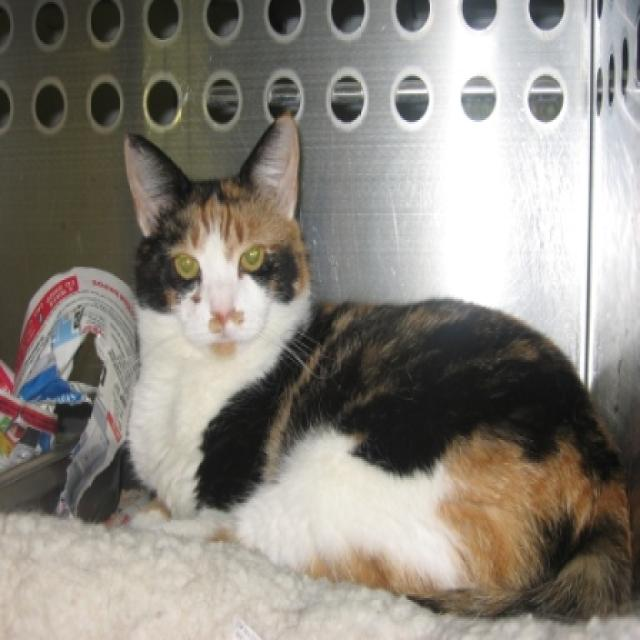Cats: (119, 107, 634, 621)
